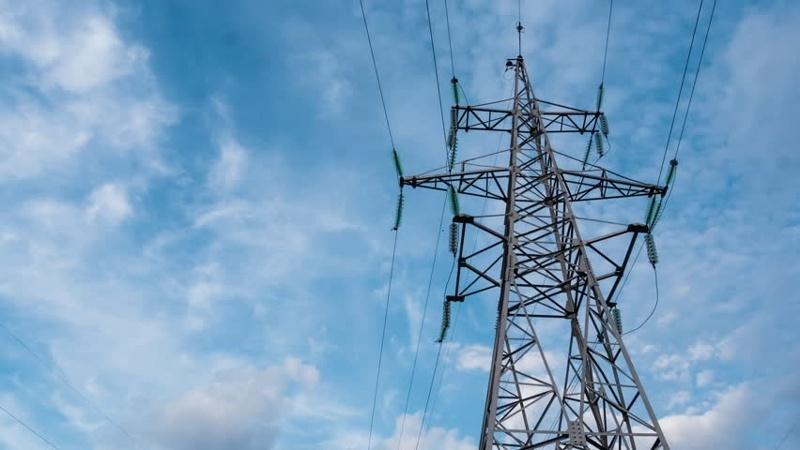power_tower: (389, 19, 680, 450)
